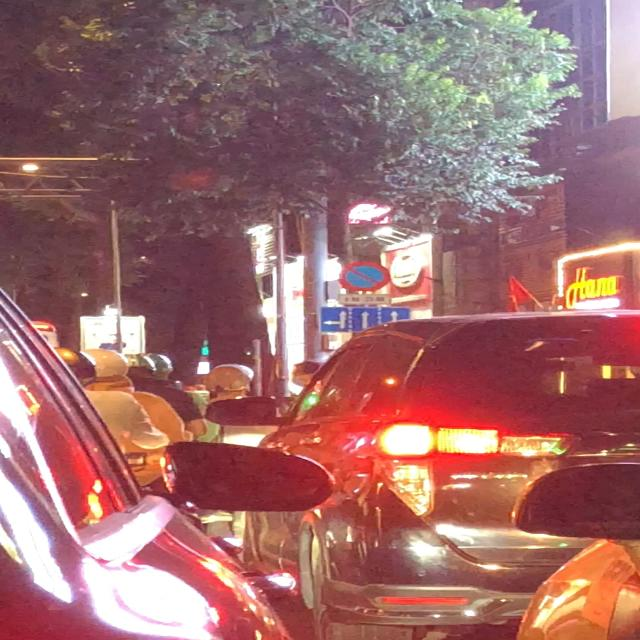Bien bao cam do xe: (332, 262, 393, 292)
